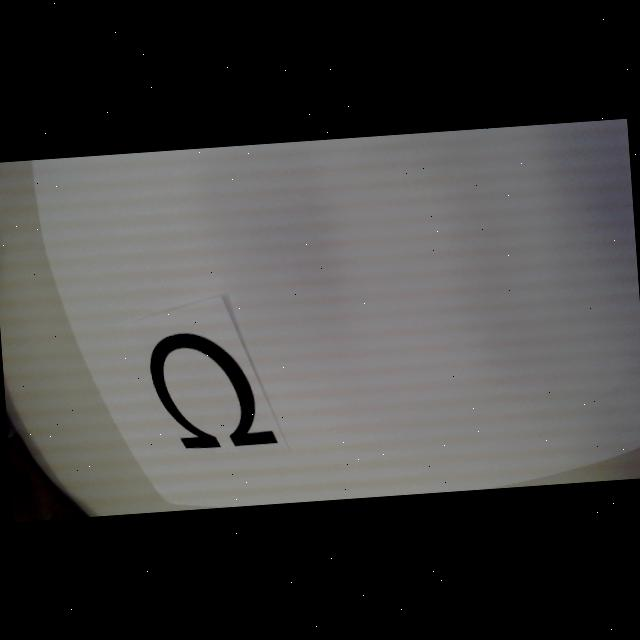OMEGA: (147, 327, 278, 452)
